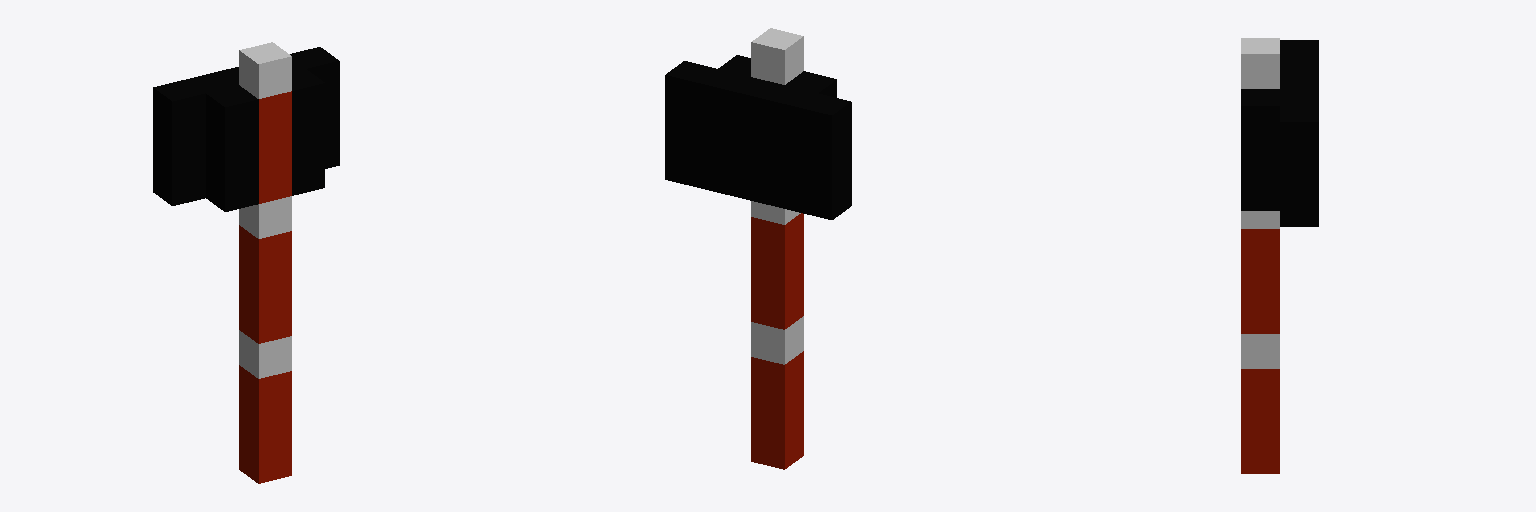
3 views of the same model, side by side, from view 1: azimuth 30°, elevation 25°; view 2: azimuth 150°, elevation 25°; view 3: azimuth 270°, elevation 25° (orthographic).
Visible parts, largest first — view 1: object 1; view 2: object 1; view 3: object 1.
Part boxes in pixels (left/top/right/bottom): object 1: left=153, top=42, right=339, bottom=483; object 1: left=665, top=28, right=851, bottom=469; object 1: left=1241, top=38, right=1318, bottom=473.
Bounding box in the file's own units: 0.5 × 1.2 × 0.2.
1 materials, 1 textured.